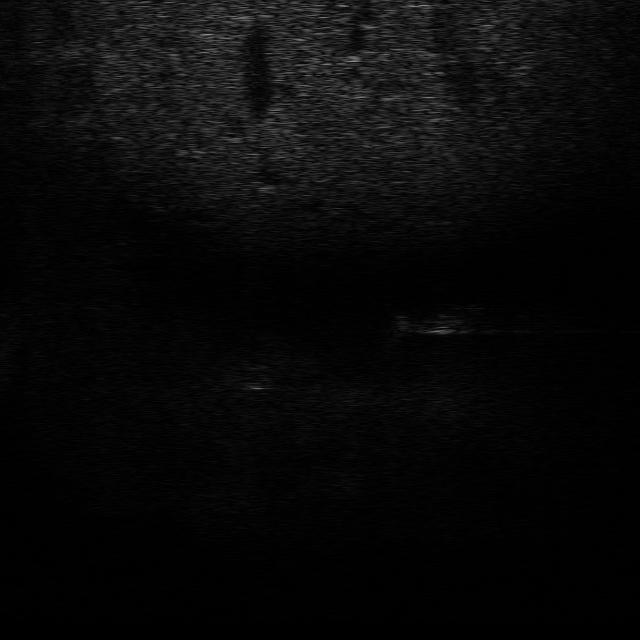ball: (230, 363, 282, 394)
human body: (382, 300, 487, 350)
